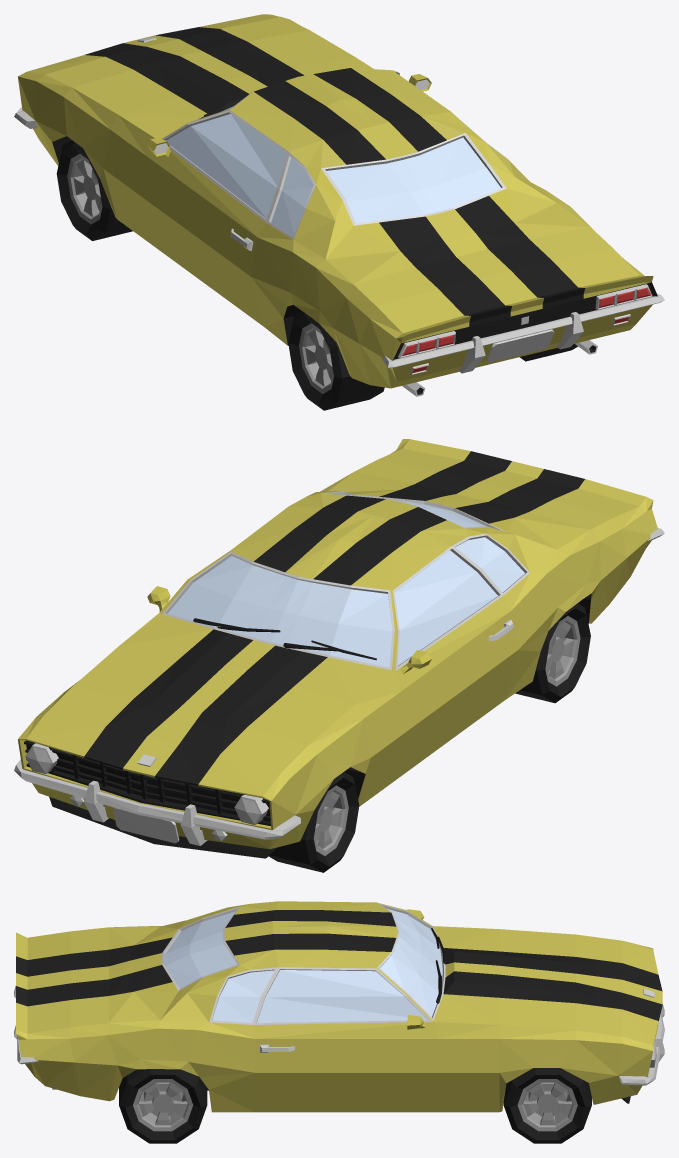
Rendered from yellow.fbx.
3 views of the same model, one above another, from view 1: azimuth 30°, elevation 25°; view 2: azimuth 150°, elevation 25°; view 3: azimuth 270°, elevation 25° (orthographic). The views are drawn at different scales.
Visible parts, largest first — view 1: Muscle_car_01; view 2: Muscle_car_01; view 3: Muscle_car_01.
Part boxes in pixels (x1,y1,x2,y2): Muscle_car_01: [14, 14, 664, 410]; Muscle_car_01: [14, 439, 664, 872]; Muscle_car_01: [14, 901, 664, 1143].
Bounding box in the file's own units: 78.78 × 54.4 × 192.
